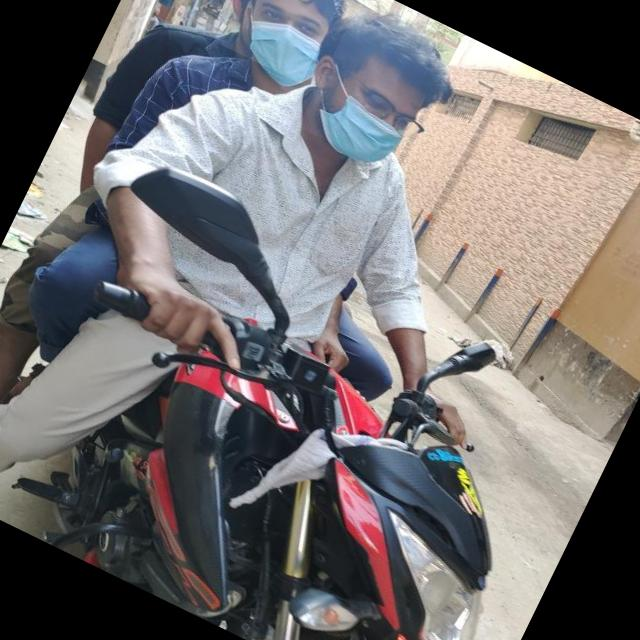without helmet: (297, 1, 463, 178), (213, 0, 346, 83)
